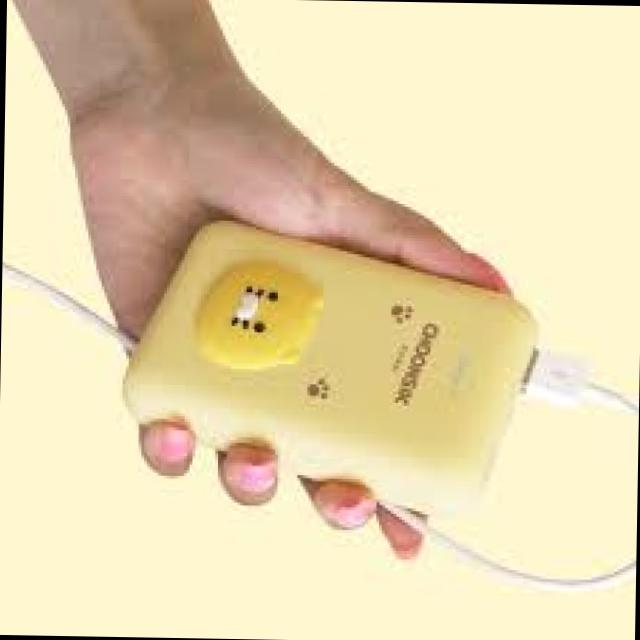portable-charger: (120, 211, 540, 518)
